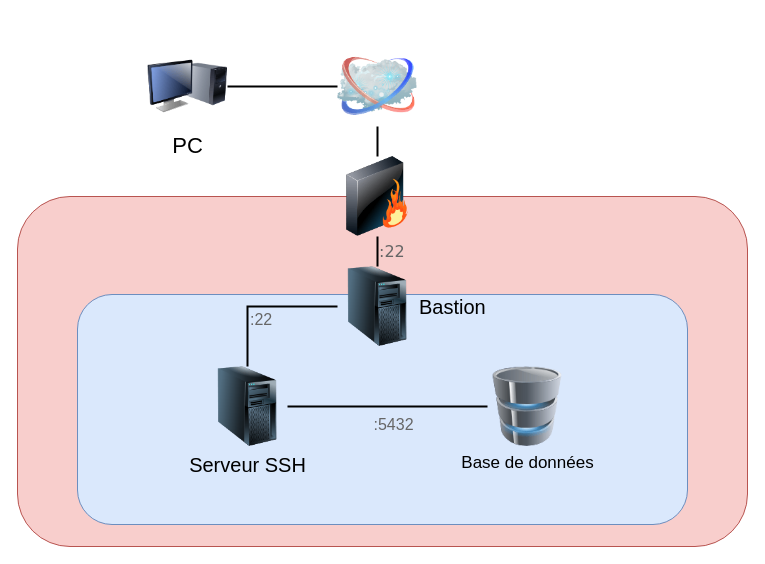
Image size: 765x564. Some labels were removed from this diagram. Here are the shapes that lost their labels. From the top down, the centre of each, then its label:
the point at 377,86: Internet
the point at 377,196: Firewall
